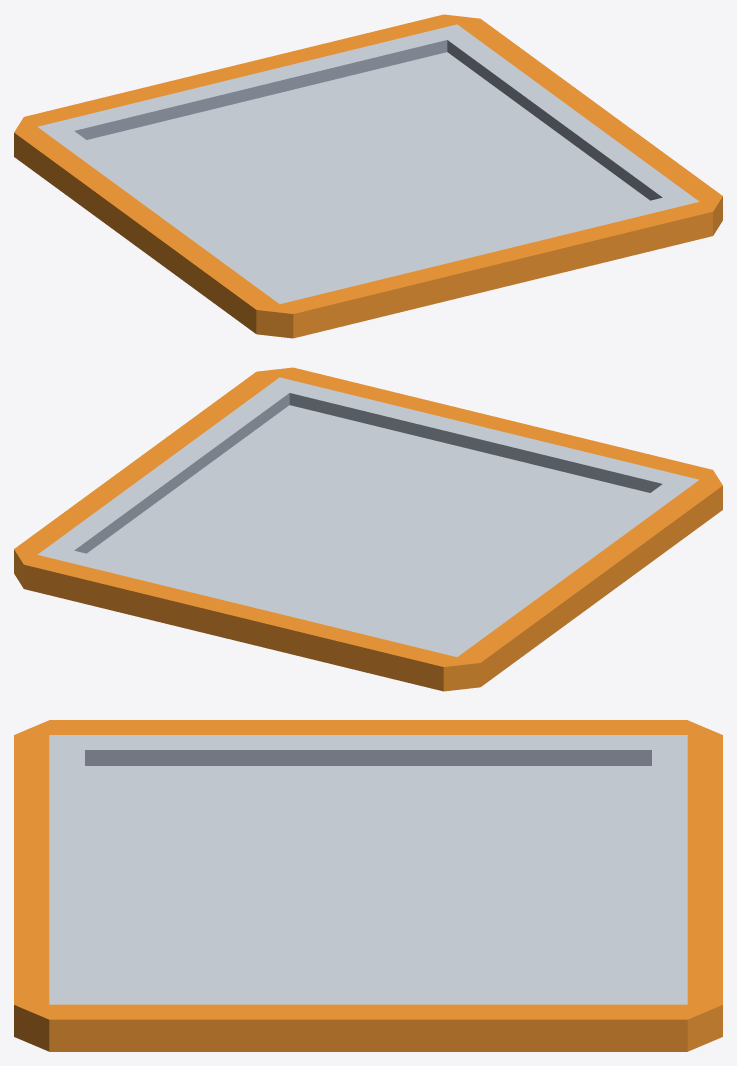
File: plataforma.obj
3 renders of one model, top to bottom at view 1: azimuth 30°, elevation 25°; view 2: azimuth 150°, elevation 25°; view 3: azimuth 270°, elevation 25°, orthographic. The views are drawn at different scales.
Visible parts, largest first — view 1: plataforma; view 2: plataforma; view 3: plataforma.
Boxes of the visible parts, x1,y1,x2,y2 form: plataforma: (14, 14, 722, 338); plataforma: (14, 367, 722, 691); plataforma: (14, 720, 722, 1051).
Size of the model in its own units: 2 by 0.1 by 2.
